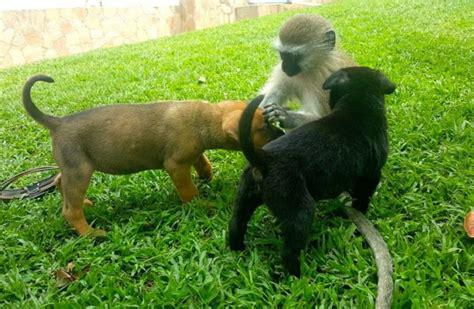dog: (22, 74, 283, 237), (227, 65, 394, 276), (257, 15, 353, 134)
